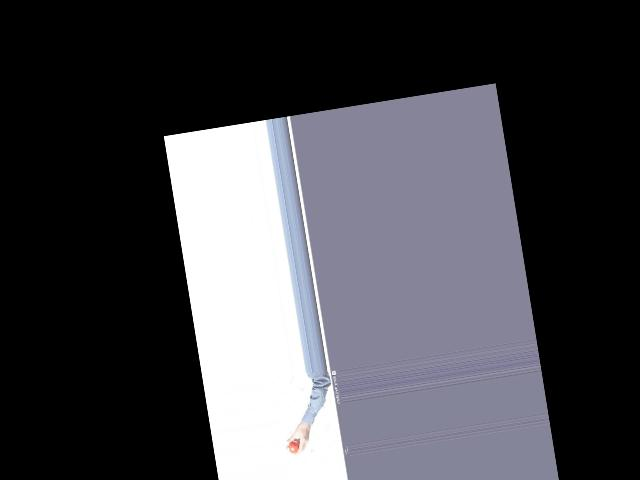tomato: (288, 441, 299, 454)
